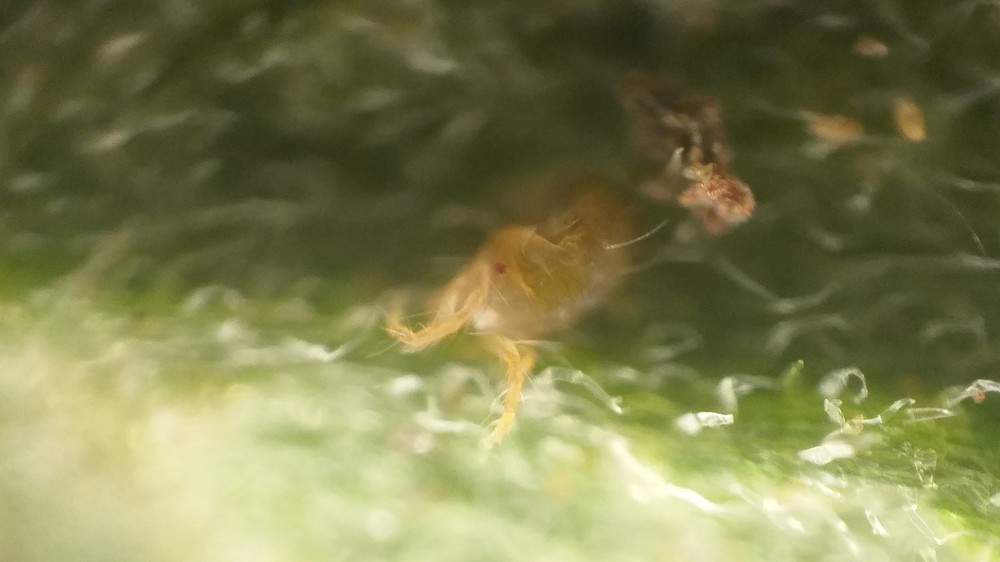Aracnido Rojo: (373, 148, 701, 444)
